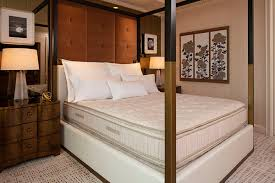bed-matress: (61, 88, 253, 174)
